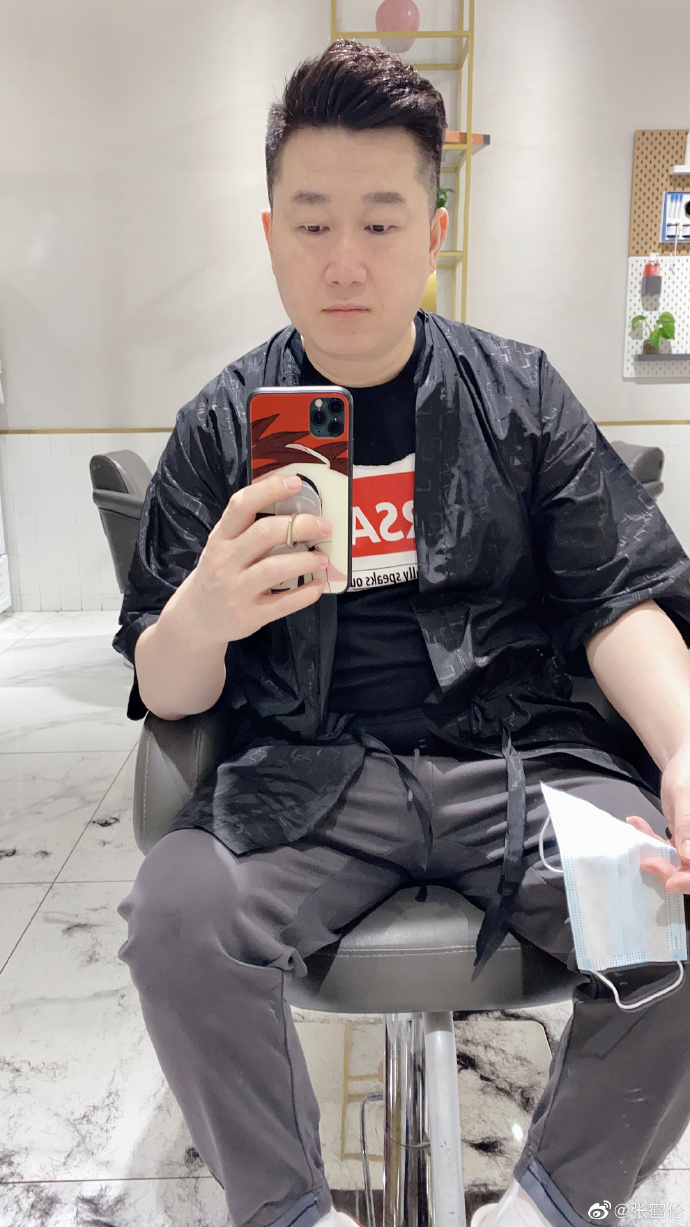noWear: (260, 172, 451, 357)
